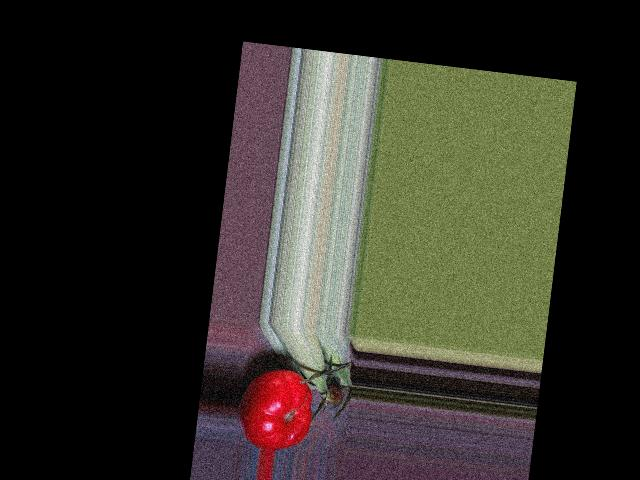tomato: (234, 364, 316, 453)
